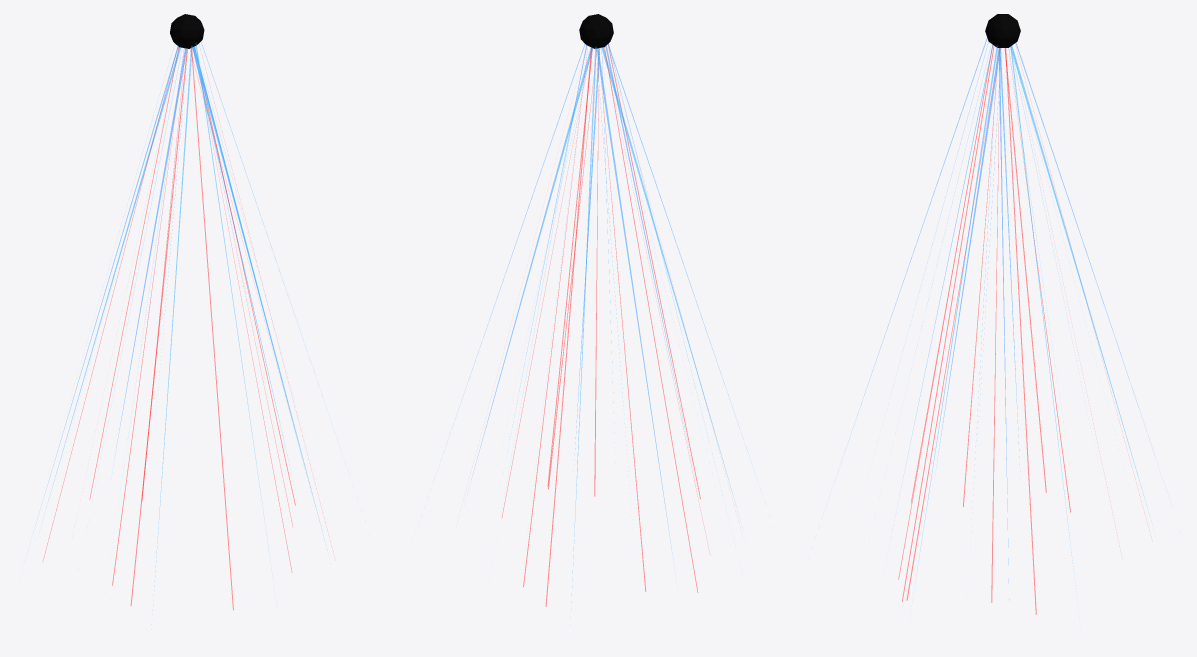
File: laserball.glb
3 views of the same model, side by side, from view 1: azimuth 30°, elevation 25°; view 2: azimuth 150°, elevation 25°; view 3: azimuth 270°, elevation 25° (orthographic).
Parts seen in each view (by area): view 1: Icosphere; view 2: Icosphere; view 3: Icosphere.
Part boxes in pixels (x1,y1,x2,y2): Icosphere: (43,14,319,609); Icosphere: (478,14,728,606); Icosphere: (877,14,1139,614).
Bounding box in the file's own units: 5.11 × 8.53 × 5.27.
